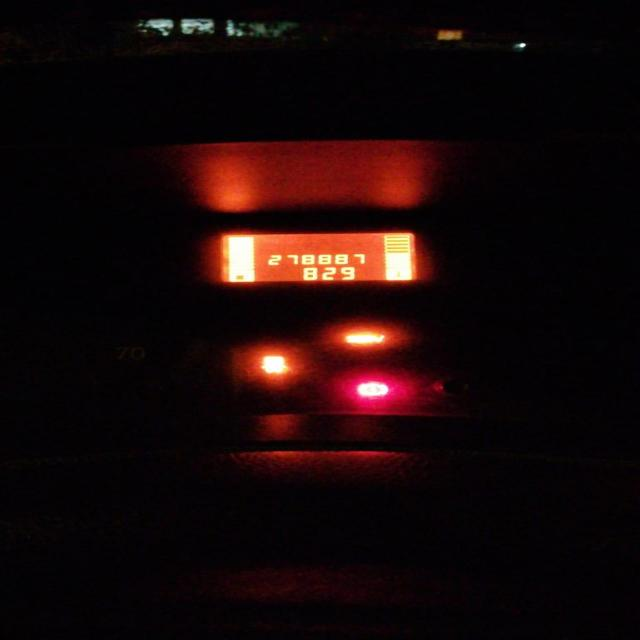odometer: (217, 232, 416, 282)
